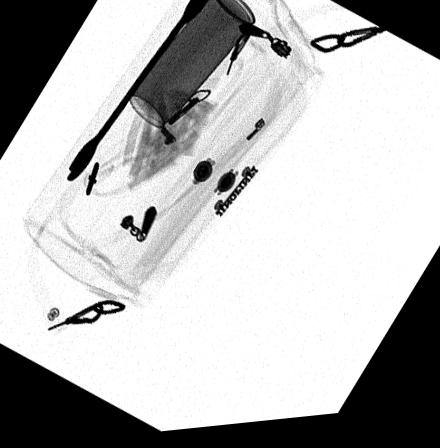Wrench: (63, 0, 213, 184)
